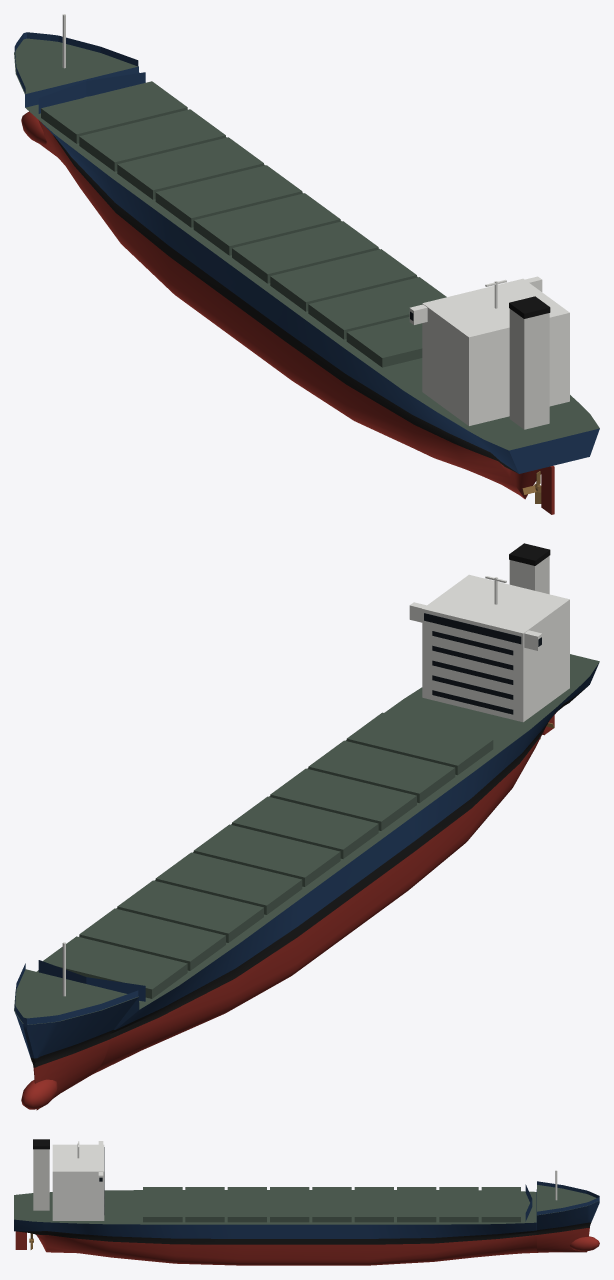
3 views of the same model, one above another, from view 1: azimuth 30°, elevation 25°; view 2: azimuth 150°, elevation 25°; view 3: azimuth 270°, elevation 25° (orthographic). The views are drawn at different scales.
Visible parts, largest first — view 1: Hull, HatchCovers, Deckhouse, Funnel, Breakwater, Forecastle; view 2: Hull, HatchCovers, Deckhouse, Windows, Funnel, Breakwater, Forecastle, Bulb; view 3: Hull, HatchCovers, Deckhouse, Funnel, Forecastle, Bulb, Rudder.
Part boxes in pixels (x1,y1,x2,y2): Hull: [14, 38, 599, 499]; HatchCovers: [41, 81, 446, 367]; Deckhouse: [422, 278, 569, 425]; Funnel: [509, 296, 550, 429]; Breakwater: [38, 72, 145, 113]; Forecastle: [14, 32, 138, 93]; Hull: [14, 654, 599, 1110]; HatchCovers: [43, 712, 493, 998]; Deckhouse: [422, 574, 569, 722]; Windows: [424, 613, 541, 714]; Funnel: [509, 543, 550, 594]; Breakwater: [38, 960, 145, 1001]; Forecastle: [14, 963, 138, 1024]; Bulb: [21, 1079, 57, 1109]; Hull: [14, 1185, 599, 1265]; HatchCovers: [143, 1187, 520, 1222]; Deckhouse: [52, 1144, 104, 1220]; Funnel: [33, 1139, 49, 1210]; Forecastle: [537, 1181, 599, 1214]; Bulb: [570, 1236, 599, 1251]; Rudder: [15, 1231, 26, 1249].
Bounding box in the file's own units: 25.5 × 37.4 × 182.
